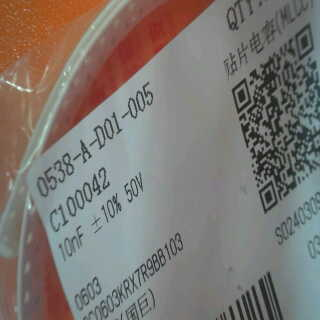10nF: (54, 221, 86, 260)
